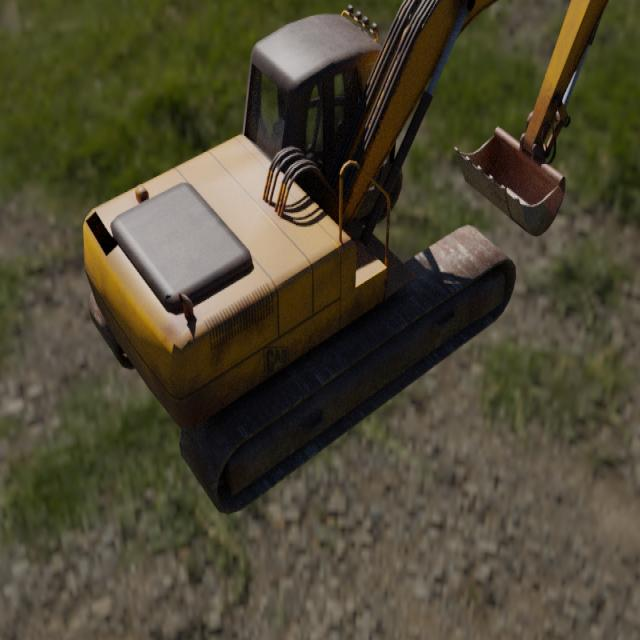excavator: (83, 0, 609, 516)
